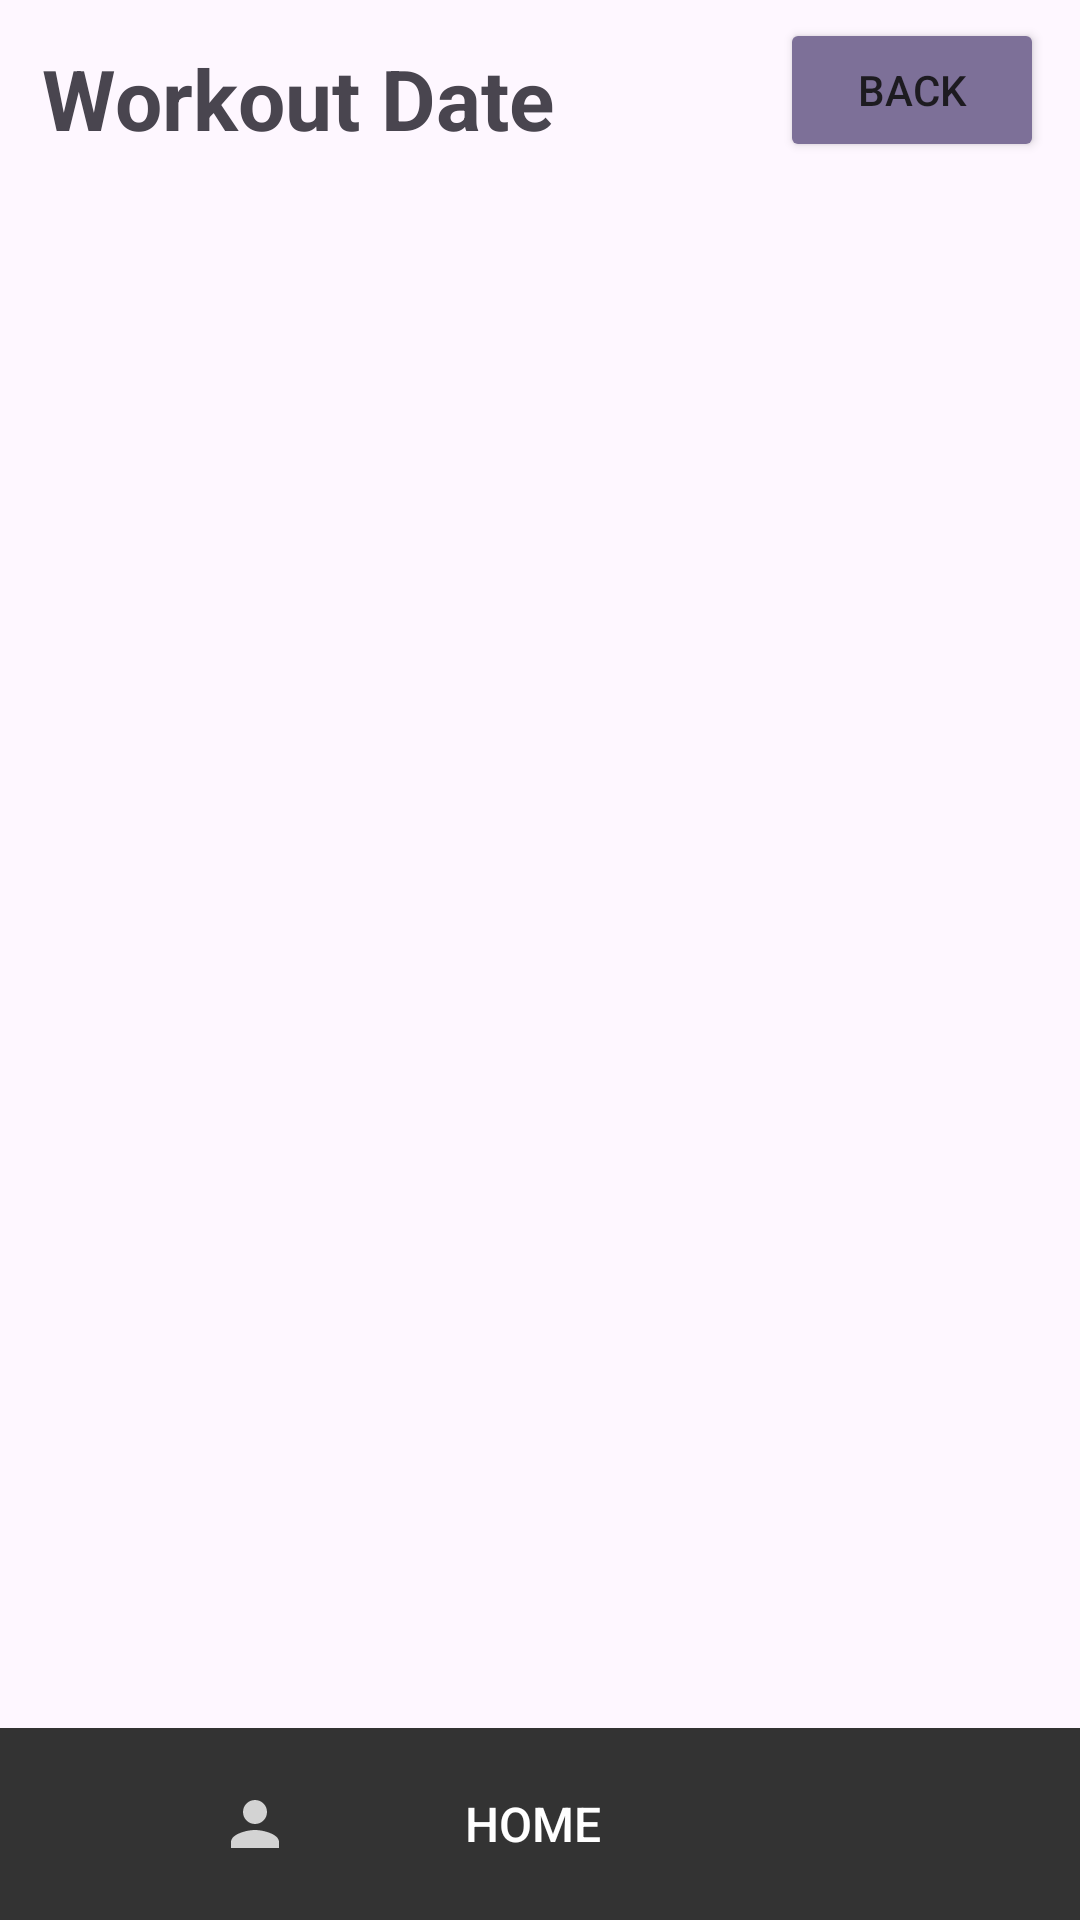

Screen size 1080x1920. Icon name, then its box in pixels as bbox=[x1, y1, x2, y2]:
Profile Icon: bbox=[231, 1800, 279, 1848]
